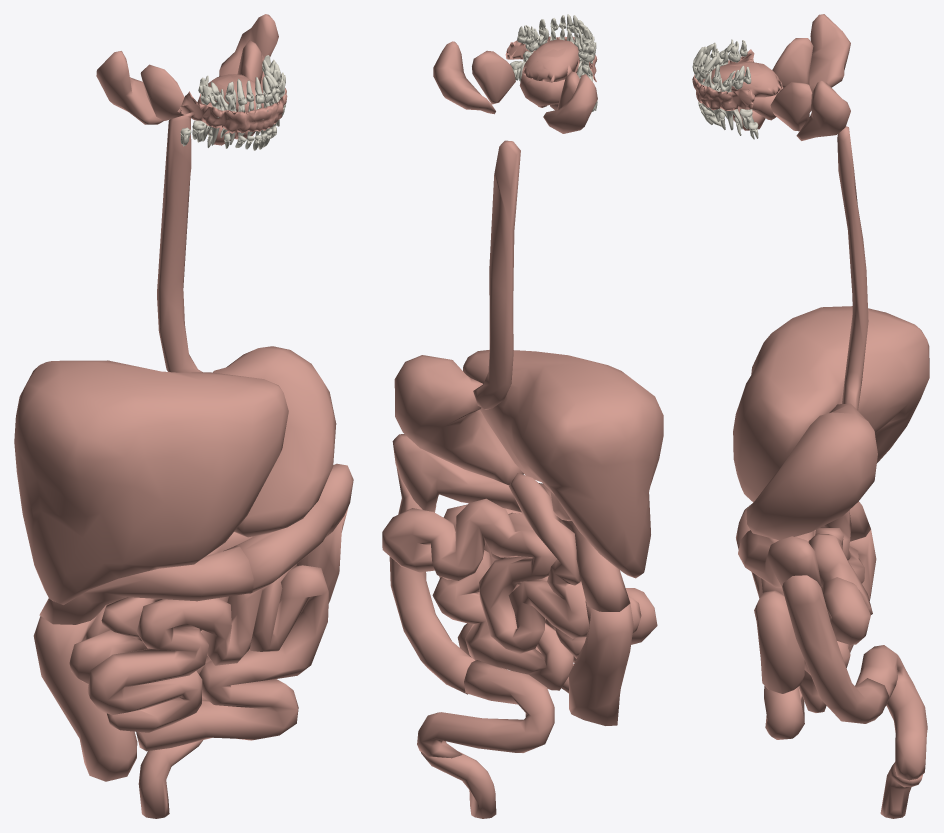
Rendered from pediatric_child_5y_female.digestive.LOD2.glb.
3 renders of one model, left to right at view 1: azimuth 30°, elevation 25°; view 2: azimuth 150°, elevation 25°; view 3: azimuth 270°, elevation 25°, orthographic. The views are drawn at different scales.
Parts seen in each view (by area): view 1: PEDIATRIC.CHILD_5Y.FEMALE.DIGESTIVE.LIVER, PEDIATRIC.CHILD_5Y.FEMALE.DIGESTIVE.SMALL_INTESTINE_WALL, PEDIATRIC.CHILD_5Y.FEMALE.DIGESTIVE.STOMACH_WALL, PEDIATRIC.CHILD_5Y.FEMALE.DIGESTIVE.ASCENDING_COLON_WALL, PEDIATRIC.CHILD_5Y.FEMALE.DIGESTIVE.OESOPHAGUS_WALL, PEDIATRIC.CHILD_5Y.FEMALE.DIGESTIVE.TRANSVERSE_COLON_WALL.R, PEDIATRIC.CHILD_5Y.FEMALE.DIGESTIVE.TRANSVERSE_COLON_WALL.L, PEDIATRIC.CHILD_5Y.FEMALE.DIGESTIVE.SALIVARY_GLANDS.R, PEDIATRIC.CHILD_5Y.FEMALE.DIGESTIVE.RECTUM_WALL, PEDIATRIC.CHILD_5Y.FEMALE.DIGESTIVE.SALIVARY_GLANDS.L, PEDIATRIC.CHILD_5Y.FEMALE.DIGESTIVE.ORAL_MUCOSA_LIP_AND_CHEE, PEDIATRIC.CHILD_5Y.FEMALE.DIGESTIVE.PERMANENT_CEMENTUM (+4 smaller); view 2: PEDIATRIC.CHILD_5Y.FEMALE.DIGESTIVE.SMALL_INTESTINE_WALL, PEDIATRIC.CHILD_5Y.FEMALE.DIGESTIVE.LIVER, PEDIATRIC.CHILD_5Y.FEMALE.DIGESTIVE.STOMACH_WALL, PEDIATRIC.CHILD_5Y.FEMALE.DIGESTIVE.SIGMOID_COLON_WALL, PEDIATRIC.CHILD_5Y.FEMALE.DIGESTIVE.OESOPHAGUS_WALL, PEDIATRIC.CHILD_5Y.FEMALE.DIGESTIVE.ASCENDING_COLON_WALL, PEDIATRIC.CHILD_5Y.FEMALE.DIGESTIVE.DESCENDING_COLON_WALL, PEDIATRIC.CHILD_5Y.FEMALE.DIGESTIVE.TRANSVERSE_COLON_WALL.L, PEDIATRIC.CHILD_5Y.FEMALE.DIGESTIVE.SALIVARY_GLANDS.L, PEDIATRIC.CHILD_5Y.FEMALE.DIGESTIVE.TRANSVERSE_COLON_WALL.R, PEDIATRIC.CHILD_5Y.FEMALE.DIGESTIVE.RECTUM_WALL, PEDIATRIC.CHILD_5Y.FEMALE.DIGESTIVE.SALIVARY_GLANDS.R (+5 smaller); view 3: PEDIATRIC.CHILD_5Y.FEMALE.DIGESTIVE.LIVER, PEDIATRIC.CHILD_5Y.FEMALE.DIGESTIVE.SMALL_INTESTINE_WALL, PEDIATRIC.CHILD_5Y.FEMALE.DIGESTIVE.STOMACH_WALL, PEDIATRIC.CHILD_5Y.FEMALE.DIGESTIVE.DESCENDING_COLON_WALL, PEDIATRIC.CHILD_5Y.FEMALE.DIGESTIVE.SIGMOID_COLON_WALL, PEDIATRIC.CHILD_5Y.FEMALE.DIGESTIVE.OESOPHAGUS_WALL, PEDIATRIC.CHILD_5Y.FEMALE.DIGESTIVE.SALIVARY_GLANDS.R, PEDIATRIC.CHILD_5Y.FEMALE.DIGESTIVE.SALIVARY_GLANDS.L, PEDIATRIC.CHILD_5Y.FEMALE.DIGESTIVE.TRANSVERSE_COLON_WALL.L, PEDIATRIC.CHILD_5Y.FEMALE.DIGESTIVE.ORAL_MUCOSA_LIP_AND_CHEE, PEDIATRIC.CHILD_5Y.FEMALE.DIGESTIVE.PERMANENT_CEMENTUM, PEDIATRIC.CHILD_5Y.FEMALE.DIGESTIVE.RECTUM_WALL (+5 smaller).
Boxes of the visible parts, box(x1,y1,x2,y2) form: PEDIATRIC.CHILD_5Y.FEMALE.DIGESTIVE.LIVER: box(14, 360, 288, 604); PEDIATRIC.CHILD_5Y.FEMALE.DIGESTIVE.SMALL_INTESTINE_WALL: box(69, 532, 328, 751); PEDIATRIC.CHILD_5Y.FEMALE.DIGESTIVE.STOMACH_WALL: box(213, 346, 336, 537); PEDIATRIC.CHILD_5Y.FEMALE.DIGESTIVE.ASCENDING_COLON_WALL: box(33, 616, 137, 781); PEDIATRIC.CHILD_5Y.FEMALE.DIGESTIVE.OESOPHAGUS_WALL: box(157, 115, 202, 372); PEDIATRIC.CHILD_5Y.FEMALE.DIGESTIVE.TRANSVERSE_COLON_WALL.R: box(39, 546, 253, 624); PEDIATRIC.CHILD_5Y.FEMALE.DIGESTIVE.TRANSVERSE_COLON_WALL.L: box(234, 463, 353, 593); PEDIATRIC.CHILD_5Y.FEMALE.DIGESTIVE.SALIVARY_GLANDS.R: box(96, 51, 236, 145); PEDIATRIC.CHILD_5Y.FEMALE.DIGESTIVE.RECTUM_WALL: box(138, 740, 202, 818); PEDIATRIC.CHILD_5Y.FEMALE.DIGESTIVE.SALIVARY_GLANDS.L: box(219, 14, 278, 139); PEDIATRIC.CHILD_5Y.FEMALE.DIGESTIVE.ORAL_MUCOSA_LIP_AND_CHEE: box(177, 88, 287, 133); PEDIATRIC.CHILD_5Y.FEMALE.DIGESTIVE.PERMANENT_CEMENTUM: box(180, 55, 285, 150); PEDIATRIC.CHILD_5Y.FEMALE.DIGESTIVE.SMALL_INTESTINE_WALL: box(382, 473, 657, 693); PEDIATRIC.CHILD_5Y.FEMALE.DIGESTIVE.LIVER: box(463, 350, 663, 578); PEDIATRIC.CHILD_5Y.FEMALE.DIGESTIVE.STOMACH_WALL: box(394, 355, 523, 485); PEDIATRIC.CHILD_5Y.FEMALE.DIGESTIVE.SIGMOID_COLON_WALL: box(417, 660, 554, 758); PEDIATRIC.CHILD_5Y.FEMALE.DIGESTIVE.OESOPHAGUS_WALL: box(473, 140, 520, 409); PEDIATRIC.CHILD_5Y.FEMALE.DIGESTIVE.ASCENDING_COLON_WALL: box(569, 601, 633, 725); PEDIATRIC.CHILD_5Y.FEMALE.DIGESTIVE.DESCENDING_COLON_WALL: box(389, 467, 474, 694); PEDIATRIC.CHILD_5Y.FEMALE.DIGESTIVE.TRANSVERSE_COLON_WALL.L: box(392, 434, 521, 512); PEDIATRIC.CHILD_5Y.FEMALE.DIGESTIVE.SALIVARY_GLANDS.L: box(433, 41, 547, 114); PEDIATRIC.CHILD_5Y.FEMALE.DIGESTIVE.TRANSVERSE_COLON_WALL.R: box(539, 483, 630, 611); PEDIATRIC.CHILD_5Y.FEMALE.DIGESTIVE.RECTUM_WALL: box(421, 751, 496, 818); PEDIATRIC.CHILD_5Y.FEMALE.DIGESTIVE.SALIVARY_GLANDS.R: box(543, 71, 597, 133); PEDIATRIC.CHILD_5Y.FEMALE.DIGESTIVE.LIVER: box(733, 306, 929, 502); PEDIATRIC.CHILD_5Y.FEMALE.DIGESTIVE.SMALL_INTESTINE_WALL: box(751, 510, 872, 739); PEDIATRIC.CHILD_5Y.FEMALE.DIGESTIVE.STOMACH_WALL: box(746, 403, 877, 540); PEDIATRIC.CHILD_5Y.FEMALE.DIGESTIVE.DESCENDING_COLON_WALL: box(782, 575, 889, 723); PEDIATRIC.CHILD_5Y.FEMALE.DIGESTIVE.SIGMOID_COLON_WALL: box(855, 645, 927, 780); PEDIATRIC.CHILD_5Y.FEMALE.DIGESTIVE.OESOPHAGUS_WALL: box(837, 126, 868, 410); PEDIATRIC.CHILD_5Y.FEMALE.DIGESTIVE.SALIVARY_GLANDS.R: box(772, 14, 850, 92); PEDIATRIC.CHILD_5Y.FEMALE.DIGESTIVE.SALIVARY_GLANDS.L: box(733, 81, 850, 140); PEDIATRIC.CHILD_5Y.FEMALE.DIGESTIVE.TRANSVERSE_COLON_WALL.L: box(738, 530, 822, 590); PEDIATRIC.CHILD_5Y.FEMALE.DIGESTIVE.ORAL_MUCOSA_LIP_AND_CHEE: box(692, 49, 754, 110); PEDIATRIC.CHILD_5Y.FEMALE.DIGESTIVE.PERMANENT_CEMENTUM: box(693, 39, 758, 139); PEDIATRIC.CHILD_5Y.FEMALE.DIGESTIVE.RECTUM_WALL: box(880, 762, 922, 818).
Size of the model in its own units: 0.1878 by 0.479 by 0.1345.
